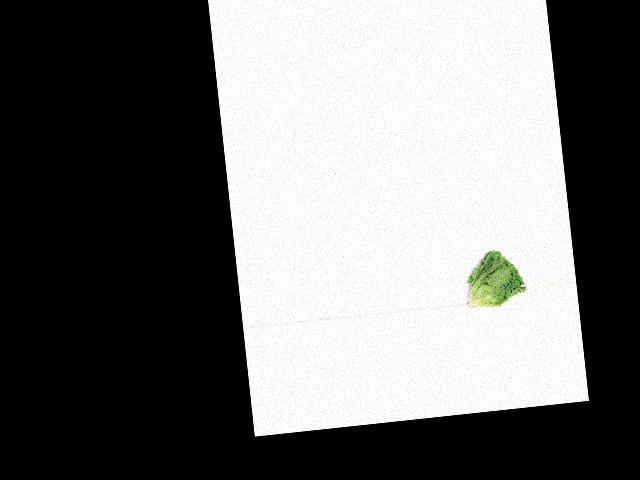lettuce: (459, 242, 527, 314)
